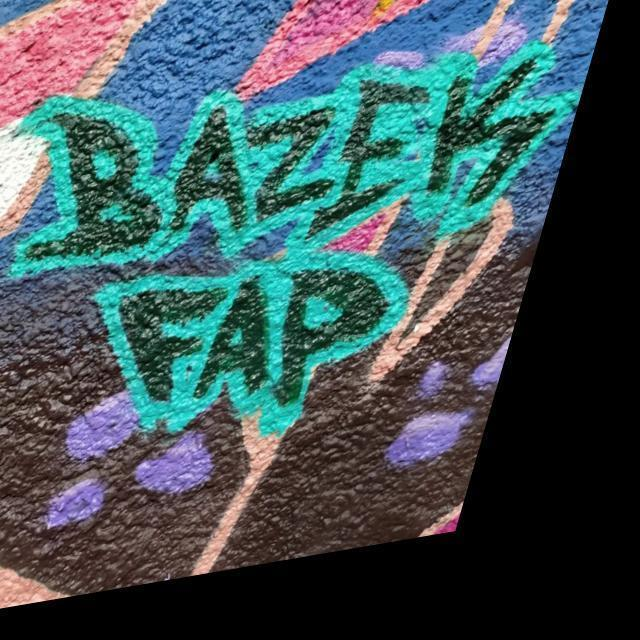nonspitting: (12, 45, 567, 441)
